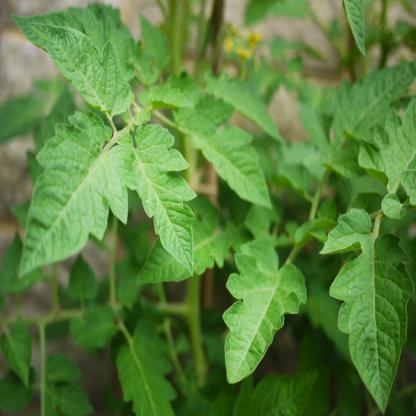Tomato leaf: (310, 186, 407, 415), (20, 105, 126, 278), (116, 117, 207, 284), (218, 225, 305, 390), (172, 94, 276, 213), (29, 17, 131, 128), (330, 55, 409, 156), (203, 77, 286, 153)
